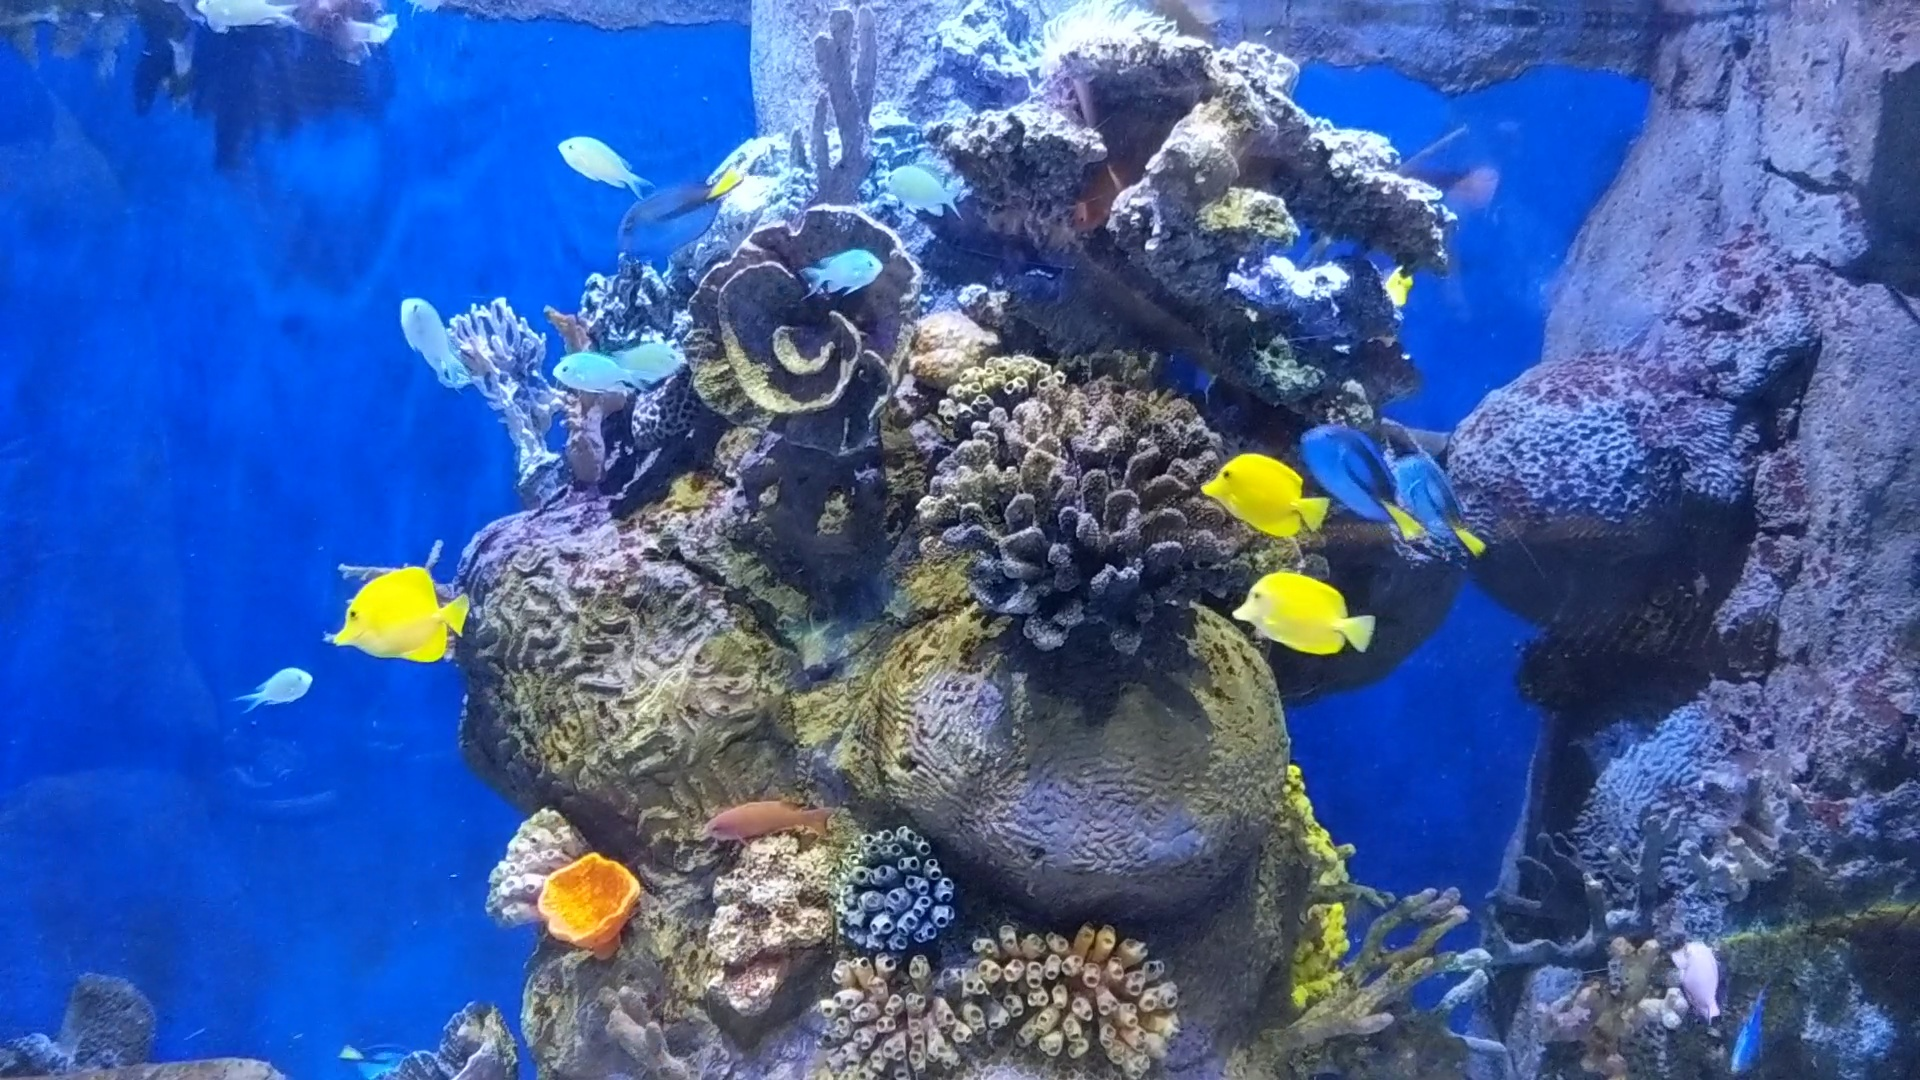blue tang surgeonfish: (1302, 406, 1424, 541), (607, 161, 742, 258), (1386, 450, 1494, 562)
damselfish: (546, 127, 651, 200), (390, 295, 468, 386), (541, 342, 644, 400), (873, 156, 963, 222), (793, 237, 884, 298), (232, 659, 320, 713), (604, 332, 694, 382)
pink fish: (686, 782, 839, 841)
saddle butterfly fish: (314, 570, 476, 670), (1217, 568, 1370, 673), (1189, 444, 1335, 549)
